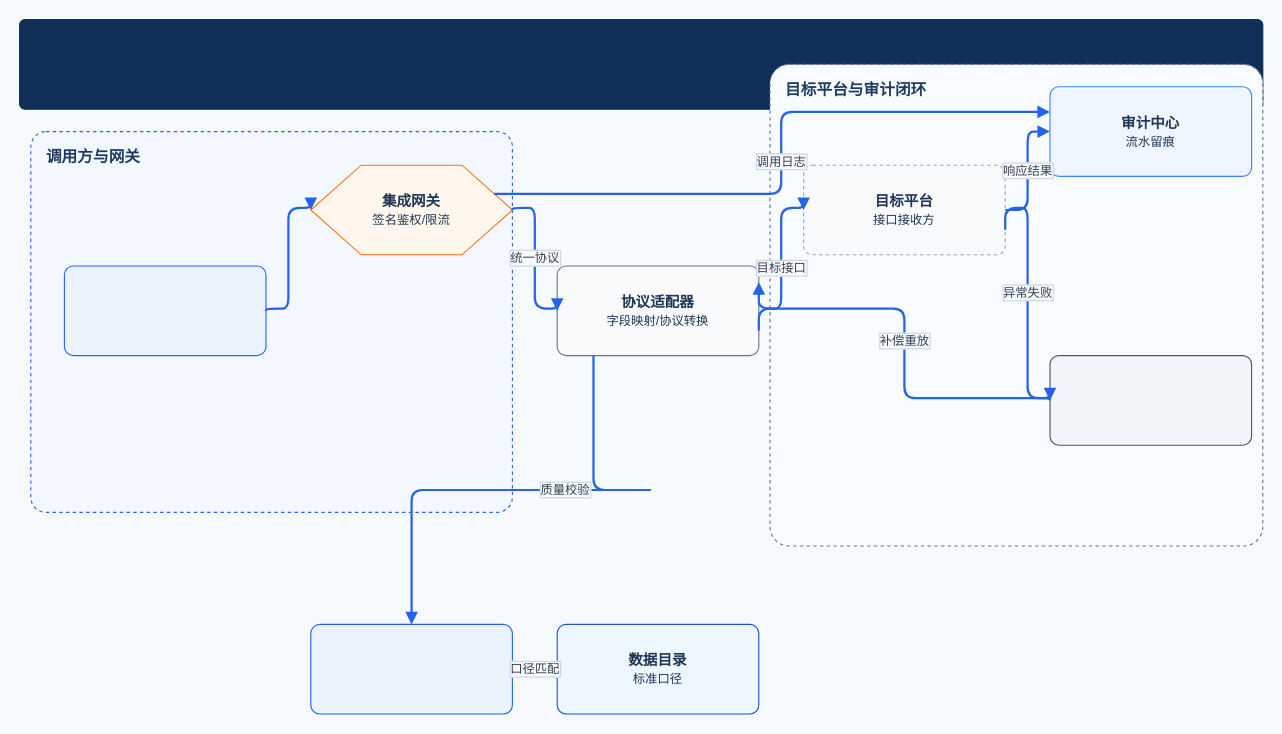
This 1282x734 diagram has some shape labels left out. Here are the shapes that lost their labels. From the top down, the box of each, then its label:
(18, 18, 1263, 109): 复杂接口集成关系图 Draw.io 高复杂度典型图测试
(63, 265, 266, 356): 业务系统 主数据发起方
(1049, 354, 1252, 445): 重试补偿 失败回补
(310, 623, 512, 714): 质量闸口 规则校验
